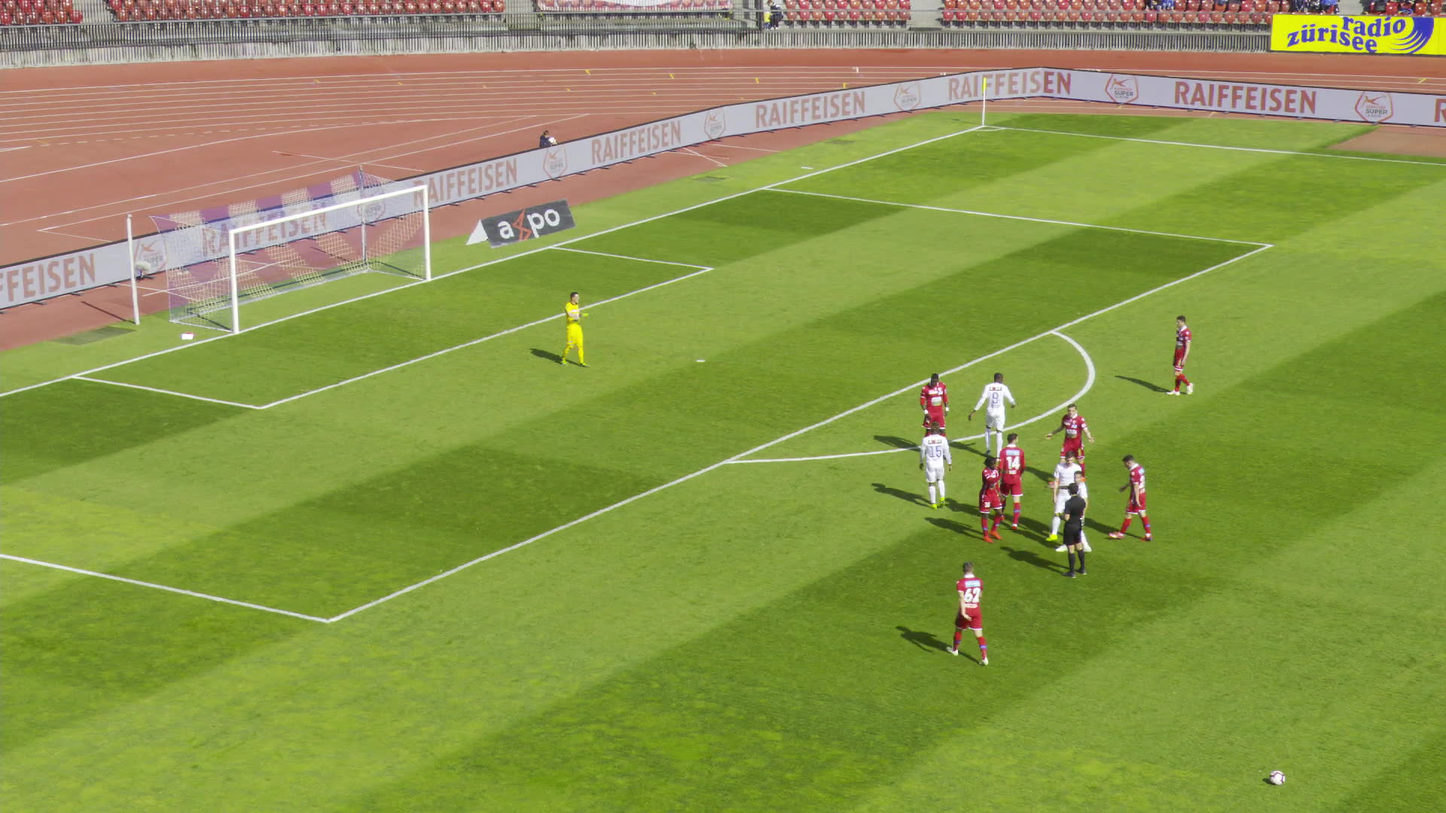ball: (1270, 769, 1284, 784)
player: (947, 561, 990, 666), (967, 371, 1017, 458), (1045, 401, 1095, 487), (1110, 453, 1152, 543), (1046, 451, 1083, 540), (1054, 470, 1091, 553), (996, 432, 1026, 528), (919, 422, 950, 512), (978, 455, 1008, 542), (920, 372, 951, 452), (560, 291, 590, 367), (1166, 315, 1193, 395)
referee: (1057, 481, 1088, 577)
